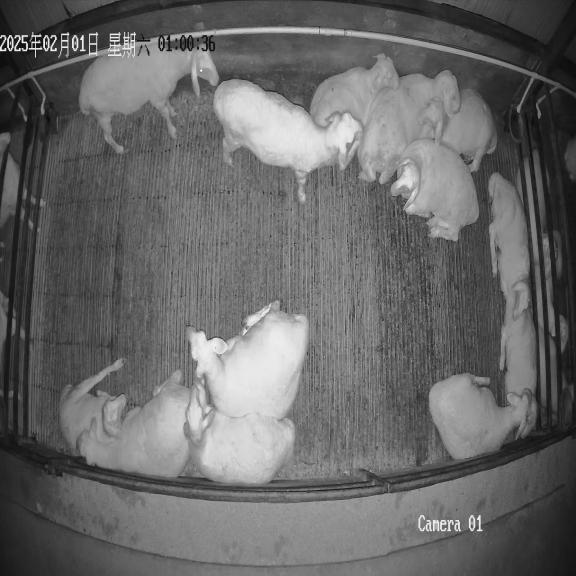lying: (186, 302, 309, 418), (77, 370, 190, 478), (358, 70, 461, 184), (184, 385, 295, 484), (390, 138, 479, 241), (429, 373, 533, 459), (310, 54, 400, 126), (419, 89, 497, 172), (59, 359, 126, 455), (488, 173, 530, 324), (500, 309, 537, 438)
stand: (213, 79, 360, 203), (79, 41, 218, 154)
